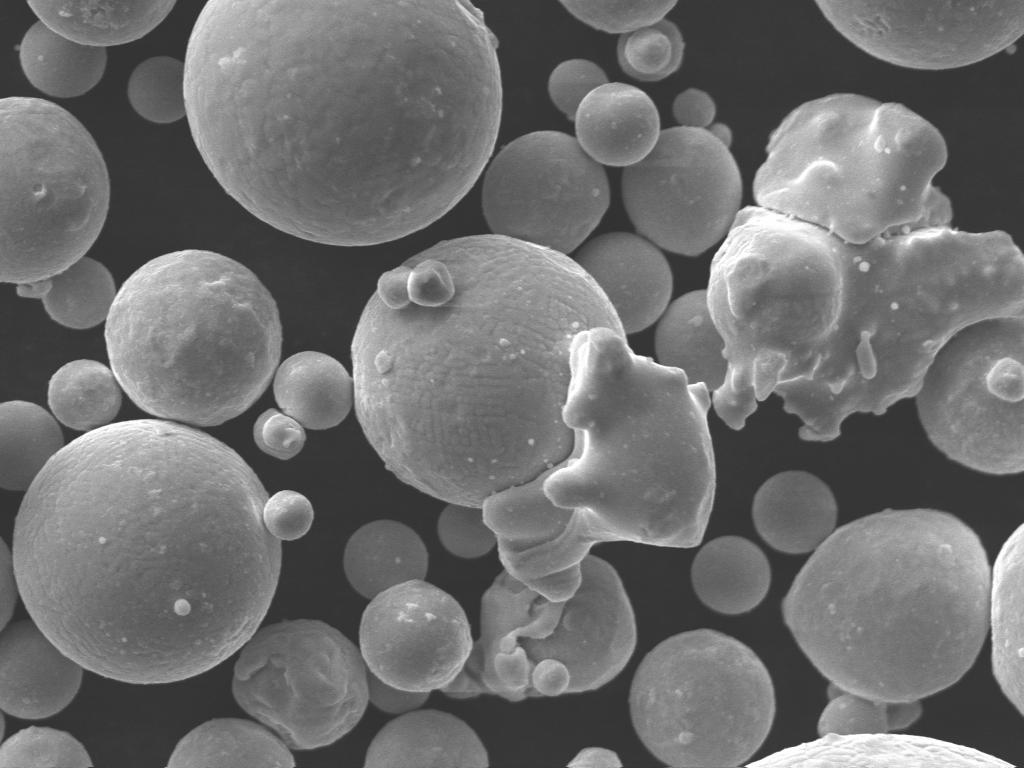Powder: (352, 236, 716, 605), (708, 94, 1024, 439), (14, 420, 314, 684), (184, 0, 502, 246), (784, 510, 990, 736), (104, 250, 282, 426), (482, 84, 658, 253), (444, 556, 636, 700), (0, 98, 116, 329), (630, 628, 776, 766), (232, 620, 368, 750), (916, 318, 1024, 474), (622, 122, 742, 256), (20, 0, 176, 98), (360, 580, 472, 713), (816, 1, 1024, 69), (254, 352, 352, 460), (574, 232, 674, 333), (560, 0, 684, 81), (748, 734, 1012, 768), (0, 620, 82, 719), (654, 290, 728, 391), (752, 470, 838, 554), (364, 710, 488, 768), (344, 520, 428, 599), (168, 718, 294, 768), (992, 524, 1024, 715), (692, 538, 772, 614), (0, 400, 64, 489), (48, 360, 122, 431), (128, 56, 186, 124), (0, 726, 92, 768), (548, 58, 608, 119), (438, 504, 496, 559), (674, 90, 714, 124), (568, 748, 622, 768)
